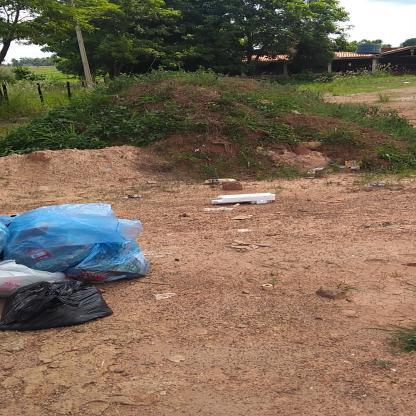lixo: (0, 196, 157, 332)
